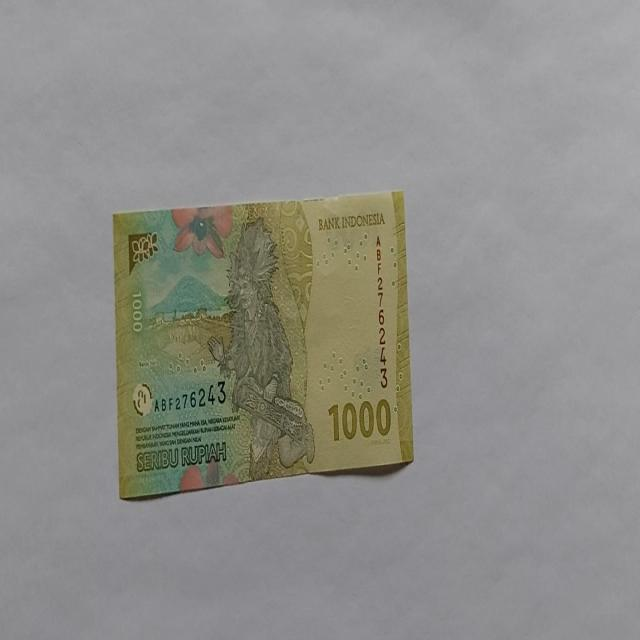seribu rupiah kertas: (112, 188, 414, 501)
